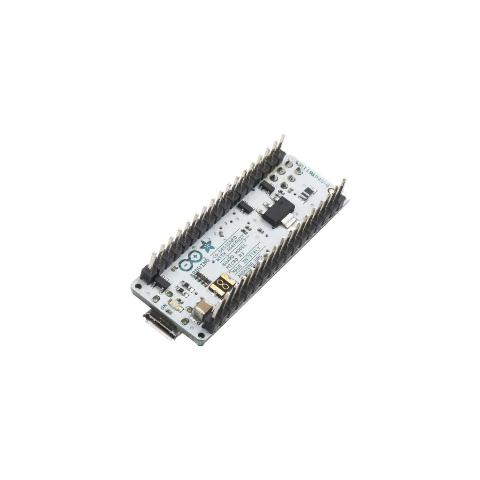Arduino-Micro: (127, 133, 375, 355)
